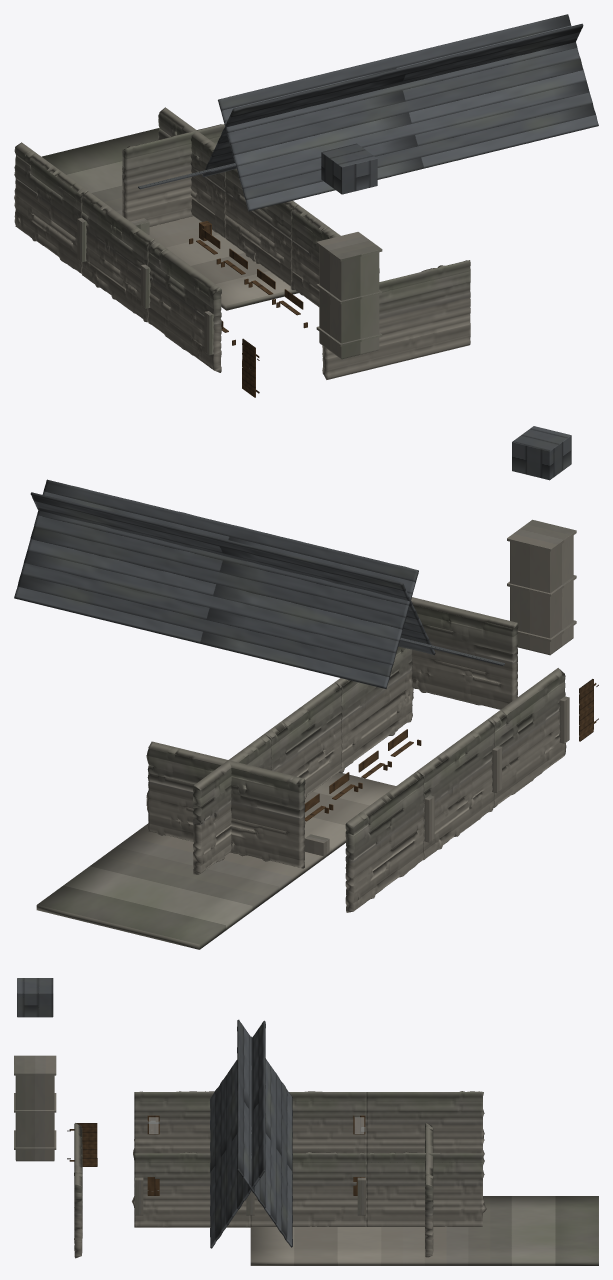
The model's file is tls_env_020_church.glb.
3 renders of one model, top to bottom at view 1: azimuth 30°, elevation 25°; view 2: azimuth 150°, elevation 25°; view 3: azimuth 270°, elevation 25°, orthographic. The views are drawn at different scales.
Parts seen in each view (by area): view 1: TLS_Church_Roof0, TLS_Church_WestWall, TLS_Church_Floor, TLS_Church_Roof1, TLS_Church_NaveWall00, TLS_Church_EastWall, TLS_Church_NaveWall02, TLS_Church_Tower, TLS_Church_NaveWall01, TLS_Church_NaveWall11, TLS_Church_NaveWall12, TLS_Church_NaveWall10 (+3 smaller); view 2: TLS_Church_Roof1, TLS_Church_Floor, TLS_Church_EastWall, TLS_Church_WestWall, TLS_Church_Roof0, TLS_Church_NaveWall02, TLS_Church_NaveWall01, TLS_Church_NaveWall00, TLS_Church_Tower, TLS_Church_NaveWall11, TLS_Church_NaveWall10, TLS_Church_NaveWall12 (+3 smaller); view 3: TLS_Church_Floor, TLS_Church_NaveWall12, TLS_Church_NaveWall02, TLS_Church_Roof1, TLS_Church_Roof0, TLS_Church_NaveWall10, TLS_Church_NaveWall11, TLS_Church_NaveWall00, TLS_Church_NaveWall01, TLS_Church_Tower, TLS_Church_TowerRoof, TLS_Church_WestWall (+3 smaller).
Boxes of the visible parts, <box> form: TLS_Church_Roof0: <box>218,14,598,211</box>; TLS_Church_WestWall: <box>322,260,470,379</box>; TLS_Church_Floor: <box>42,128,379,310</box>; TLS_Church_Roof1: <box>202,23,583,176</box>; TLS_Church_NaveWall00: <box>147,239,221,372</box>; TLS_Church_EastWall: <box>122,124,224,226</box>; TLS_Church_NaveWall02: <box>14,142,87,273</box>; TLS_Church_Tower: <box>319,246,379,359</box>; TLS_Church_NaveWall01: <box>81,191,153,322</box>; TLS_Church_NaveWall11: <box>224,169,297,285</box>; TLS_Church_NaveWall12: <box>158,107,225,238</box>; TLS_Church_NaveWall10: <box>290,204,340,306</box>; TLS_Church_Roof1: <box>14,479,418,688</box>; TLS_Church_Floor: <box>36,772,395,949</box>; TLS_Church_EastWall: <box>146,741,305,868</box>; TLS_Church_WestWall: <box>411,597,518,709</box>; TLS_Church_Roof0: <box>30,492,435,655</box>; TLS_Church_NaveWall02: <box>345,771,424,912</box>; TLS_Church_NaveWall01: <box>417,719,495,860</box>; TLS_Church_NaveWall00: <box>488,668,566,807</box>; TLS_Church_Tower: <box>510,535,573,655</box>; TLS_Church_NaveWall11: <box>264,682,342,798</box>; TLS_Church_NaveWall10: <box>335,646,413,773</box>; TLS_Church_NaveWall12: <box>193,734,272,874</box>; TLS_Church_Floor: <box>250,1196,598,1265</box>; TLS_Church_NaveWall12: <box>366,1151,486,1226</box>; TLS_Church_NaveWall02: <box>366,1091,484,1156</box>; TLS_Church_Roof1: <box>237,1019,292,1247</box>; TLS_Church_Roof0: <box>210,1020,265,1248</box>; TLS_Church_NaveWall10: <box>132,1152,250,1227</box>; TLS_Church_NaveWall11: <box>250,1151,366,1226</box>; TLS_Church_NaveWall00: <box>133,1091,214,1159</box>; TLS_Church_NaveWall01: <box>289,1091,366,1153</box>; TLS_Church_Tower: <box>15,1075,54,1161</box>; TLS_Church_TowerRoof: <box>17,978,53,1017</box>; TLS_Church_WestWall: <box>74,1123,82,1258</box>.
Size of what is drawn, in the model's own units: 18.25 by 9.8 by 24.18.
Materials: 5 (4 with a texture image).
